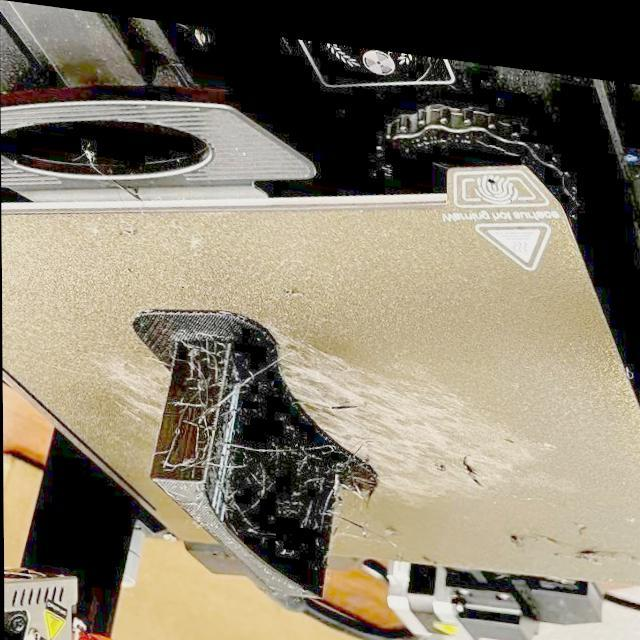stringing: (262, 438, 340, 512), (182, 332, 226, 404), (182, 410, 222, 470), (218, 428, 272, 452)
